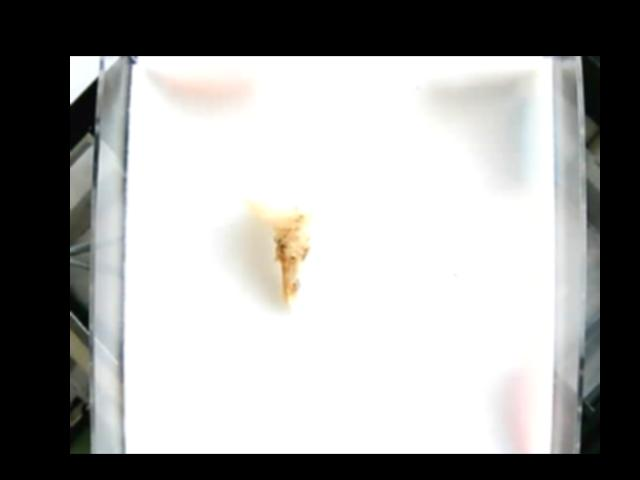Mooli: (244, 191, 328, 311)
